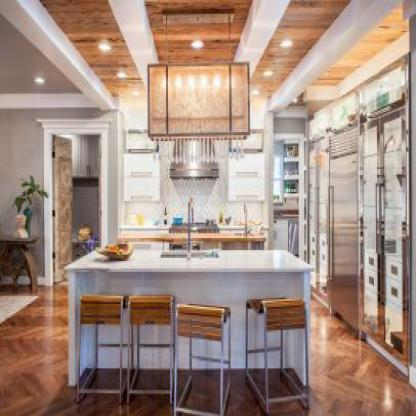chair: (244, 292, 313, 416), (171, 299, 242, 416), (126, 295, 182, 416), (77, 294, 126, 411), (413, 357, 415, 357)
door: (50, 127, 78, 283)
light: (156, 72, 247, 109), (189, 35, 210, 59), (262, 59, 282, 84), (31, 64, 44, 96), (97, 35, 115, 58), (113, 65, 125, 89), (281, 32, 294, 53), (127, 89, 142, 106)
table: (63, 249, 309, 391), (114, 232, 285, 250), (0, 237, 40, 301)
